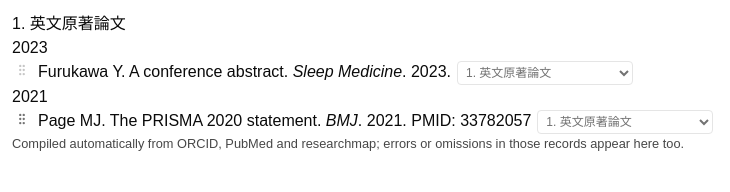
Test: the section select › writes the pin and moves the record on the spot
Step 1. Select "4. 和文総説・解説" in the dropdown named "Section for “The PRISMA 2020 statement”" → (625, 122), box [537,110,713,134]
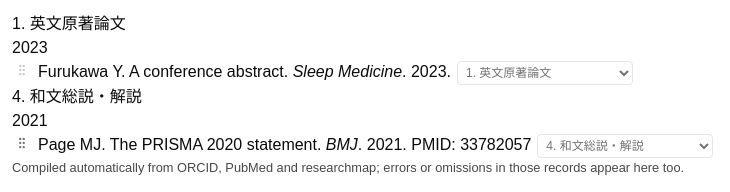
Check: the dropdown named "Section for “The PRISMA 2020 statement”" shows "4. 和文総説・解説", box [537,134,713,158]
